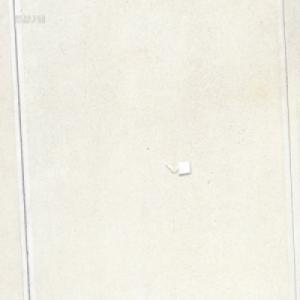LuggageTag: (164, 159, 191, 175)
